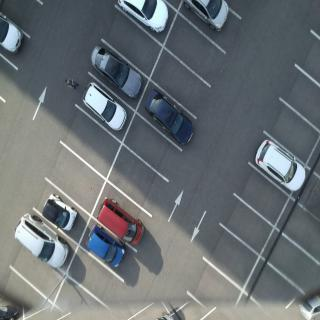car: (144, 84, 198, 151), (252, 134, 309, 196), (90, 38, 145, 102), (15, 213, 72, 272), (97, 196, 150, 250), (80, 82, 131, 138), (86, 224, 130, 273), (181, 1, 234, 36), (43, 190, 80, 235), (1, 12, 28, 57)
parking-space: (161, 11, 228, 92), (149, 45, 216, 123), (106, 142, 173, 219), (100, 5, 167, 81), (61, 105, 126, 183), (44, 141, 109, 217), (122, 111, 187, 185), (258, 220, 320, 296), (6, 239, 72, 305), (201, 223, 261, 295), (67, 243, 130, 310), (239, 252, 305, 315), (263, 98, 320, 169), (234, 160, 292, 229), (221, 191, 277, 262), (189, 254, 244, 320), (274, 189, 320, 264), (277, 60, 320, 135), (54, 271, 116, 320), (287, 163, 320, 218)
